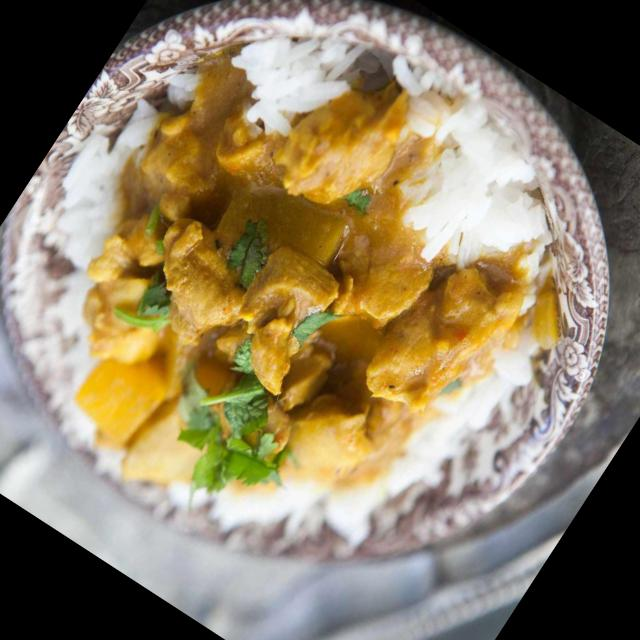chicken: (28, 36, 578, 598)
